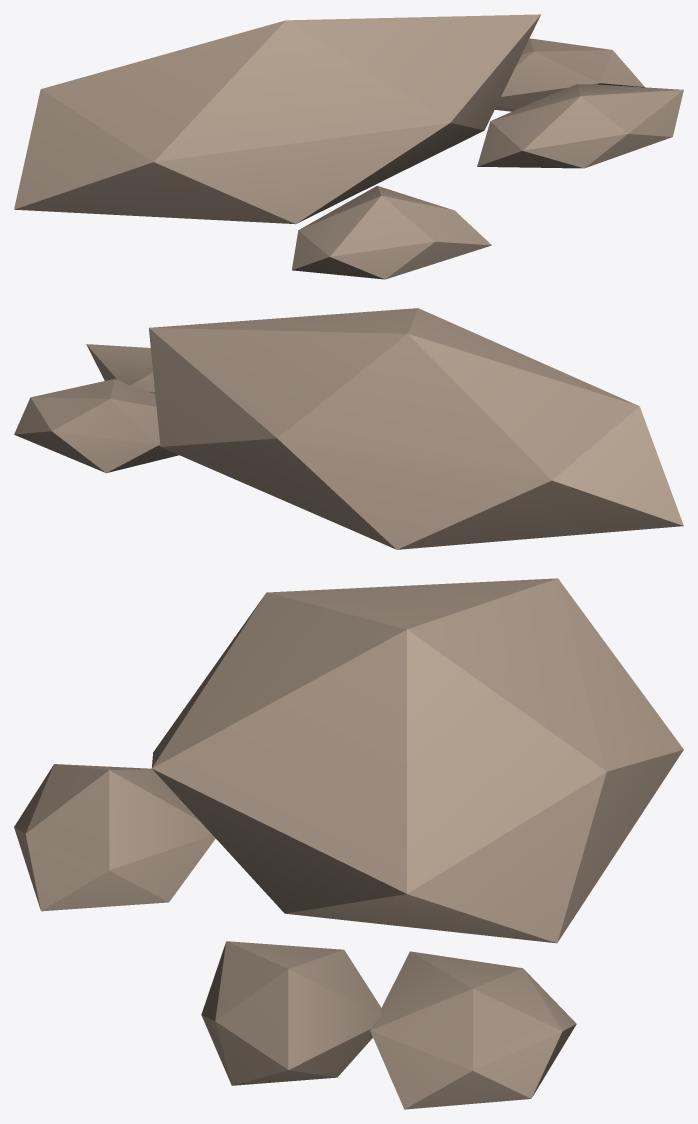
Rendered from mil_rock_3.glb.
3 views of the same model, one above another, from view 1: azimuth 30°, elevation 25°; view 2: azimuth 150°, elevation 25°; view 3: azimuth 270°, elevation 25° (orthographic). The views are drawn at different scales.
Visible parts, largest first — view 1: mil_rock_3; view 2: mil_rock_3; view 3: mil_rock_3.
Part boxes in pixels (<box>): mil_rock_3: <box>14,14,683,279</box>; mil_rock_3: <box>14,308,683,549</box>; mil_rock_3: <box>14,578,683,1109</box>.
Bounding box in the file's own units: 5.25 × 1.27 × 3.31.
